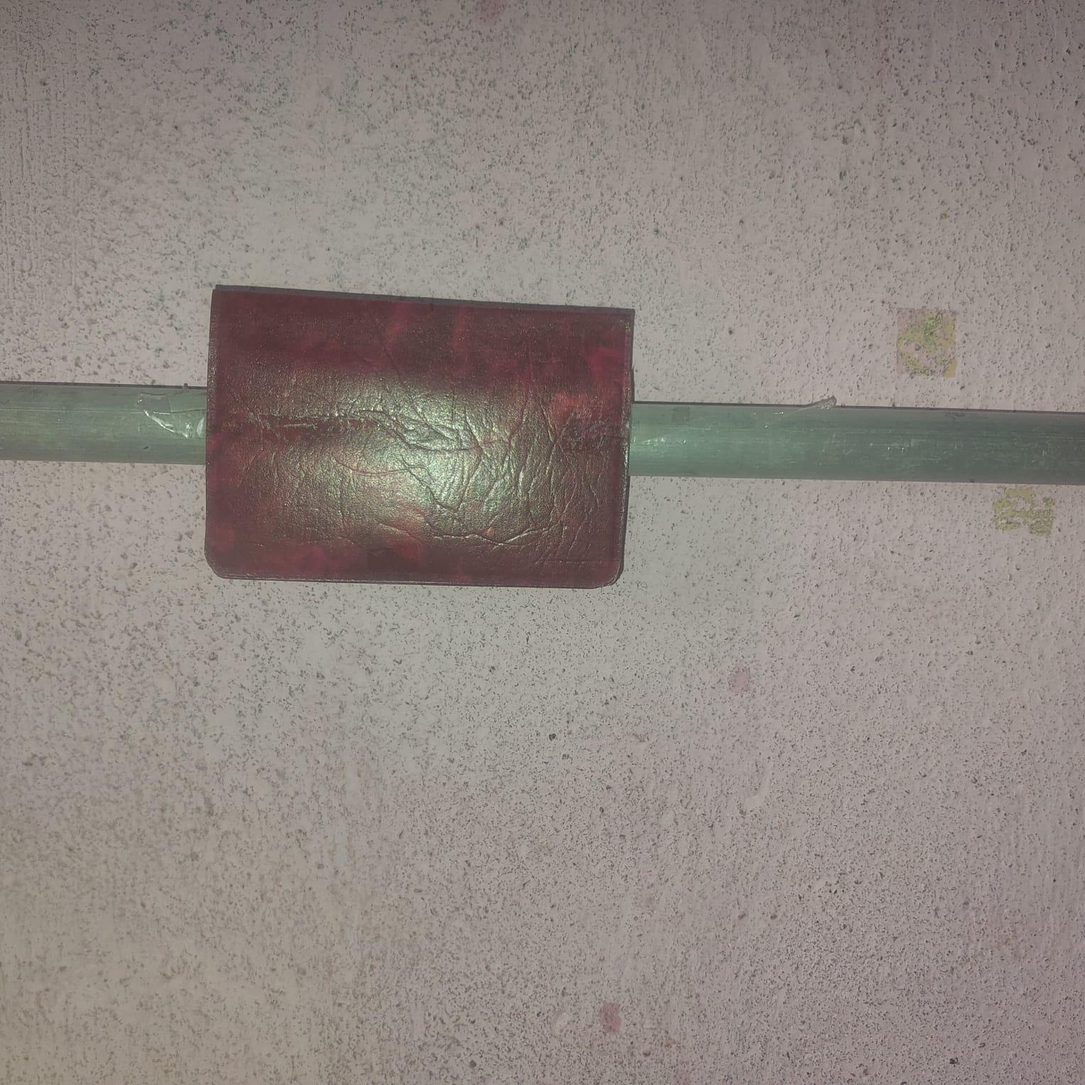wallet: (203, 283, 644, 592)
